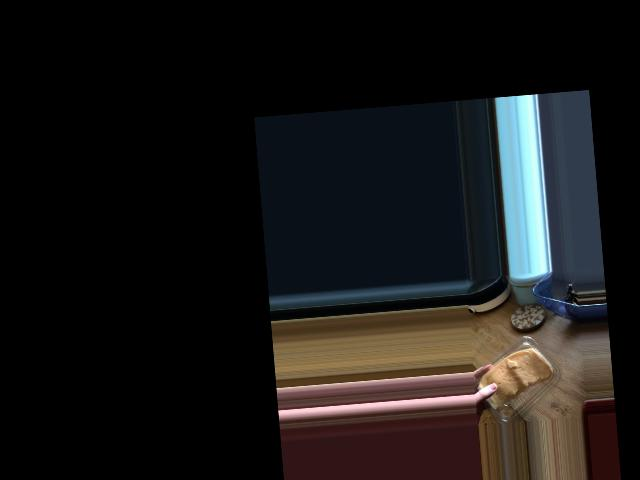cheese: (476, 325, 573, 422)
